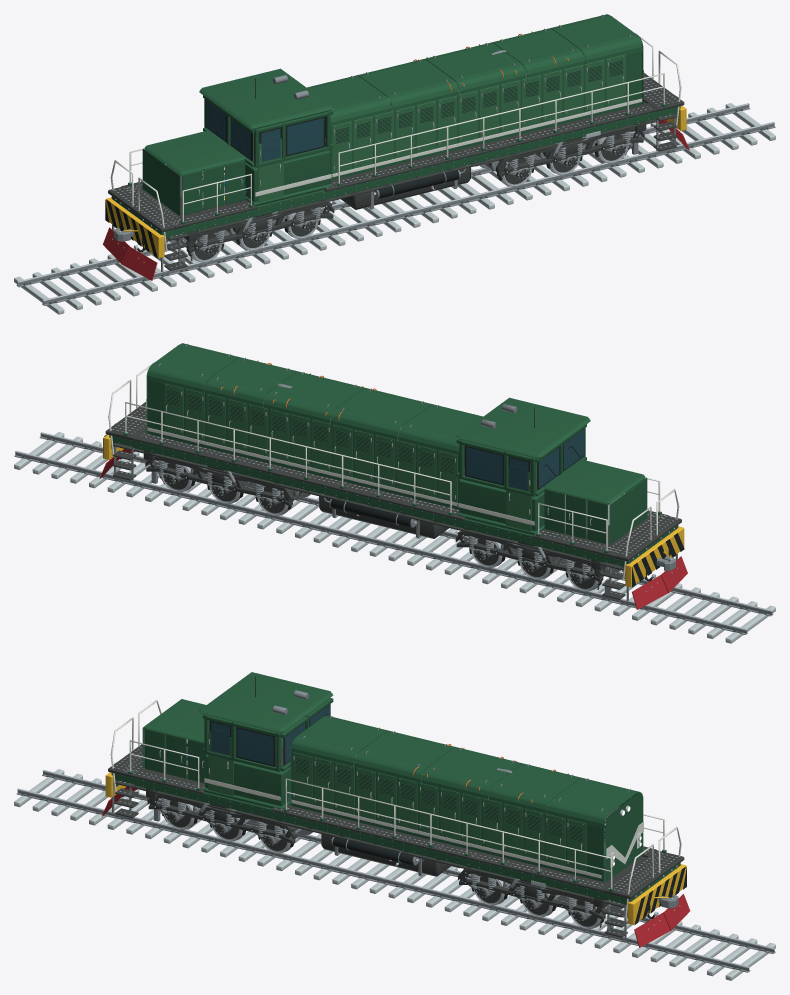
The picture shows the model from 3 angles, top to bottom: view 1: azimuth 30°, elevation 25°; view 2: azimuth 150°, elevation 25°; view 3: azimuth 330°, elevation 25°; orthographic projection.
Visible parts, largest first — view 1: roof__green, shell_left__green_light, track__cabinet, cab__green, fittings__frame, short_hood__green, shell_left__green, track__steel, frame__green, fittings__white, cab__glass, shell_left__black (+17 smaller); view 2: roof__green, shell_right__green_light, track__cabinet, cab__green, fittings__frame, short_hood__green, shell_right__green, track__steel, frame__green, fittings__white, cab__glass, shell_right__black (+16 smaller); view 3: roof__green, shell_left__green_light, track__cabinet, cab__green, fittings__frame, shell_left__green, track__steel, frame__green, short_hood__green, fittings__white, hood_ends__green, shell_left__black (+17 smaller).
Part boxes in pixels (x1,y1,x2,y2): roof__green: [307, 14, 642, 126]; shell_left__green_light: [332, 54, 625, 174]; track__cabinet: [14, 103, 775, 314]; cab__green: [199, 68, 333, 205]; fittings__frame: [108, 73, 684, 270]; short_hood__green: [142, 130, 245, 215]; shell_left__green: [329, 51, 642, 180]; track__steel: [16, 105, 775, 305]; frame__green: [111, 106, 680, 244]; fittings__white: [110, 33, 681, 251]; cab__glass: [206, 100, 323, 161]; shell_left__black: [336, 60, 622, 143]; roof__green: [147, 343, 482, 455]; shell_right__green_light: [164, 383, 457, 503]; track__cabinet: [14, 432, 775, 643]; cab__green: [456, 397, 590, 534]; fittings__frame: [105, 402, 681, 599]; short_hood__green: [544, 459, 647, 544]; shell_right__green: [147, 380, 460, 509]; track__steel: [14, 434, 773, 634]; frame__green: [109, 435, 678, 573]; fittings__white: [108, 362, 679, 580]; cab__glass: [466, 429, 583, 490]; shell_right__black: [167, 389, 453, 472]; roof__green: [291, 715, 640, 828]; shell_left__green_light: [292, 752, 586, 871]; track__cabinet: [14, 769, 775, 980]; cab__green: [199, 672, 333, 808]; fittings__frame: [108, 744, 684, 937]; shell_left__green: [291, 752, 604, 881]; track__steel: [16, 771, 775, 972]; frame__green: [111, 773, 680, 911]; short_hood__green: [142, 699, 206, 783]; fittings__white: [110, 700, 681, 918]; hood_ends__green: [290, 717, 643, 882]; shell_left__black: [296, 758, 582, 841].
Size of the model in its own units: 25 by 5.45 by 3.27.
